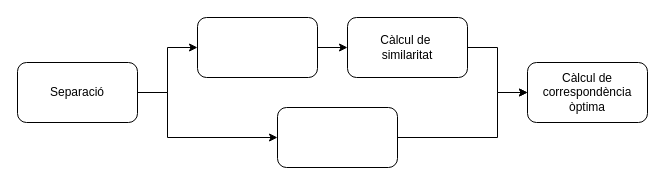
The diagram is 665 pixels wide and 185 high, and some of its shapes have lost their labels. The centre of each missing label's shape, as x and y in pixels:
"Extracció de característiques" goes at (257,47).
"Ordenació d'elements" goes at (337,137).
